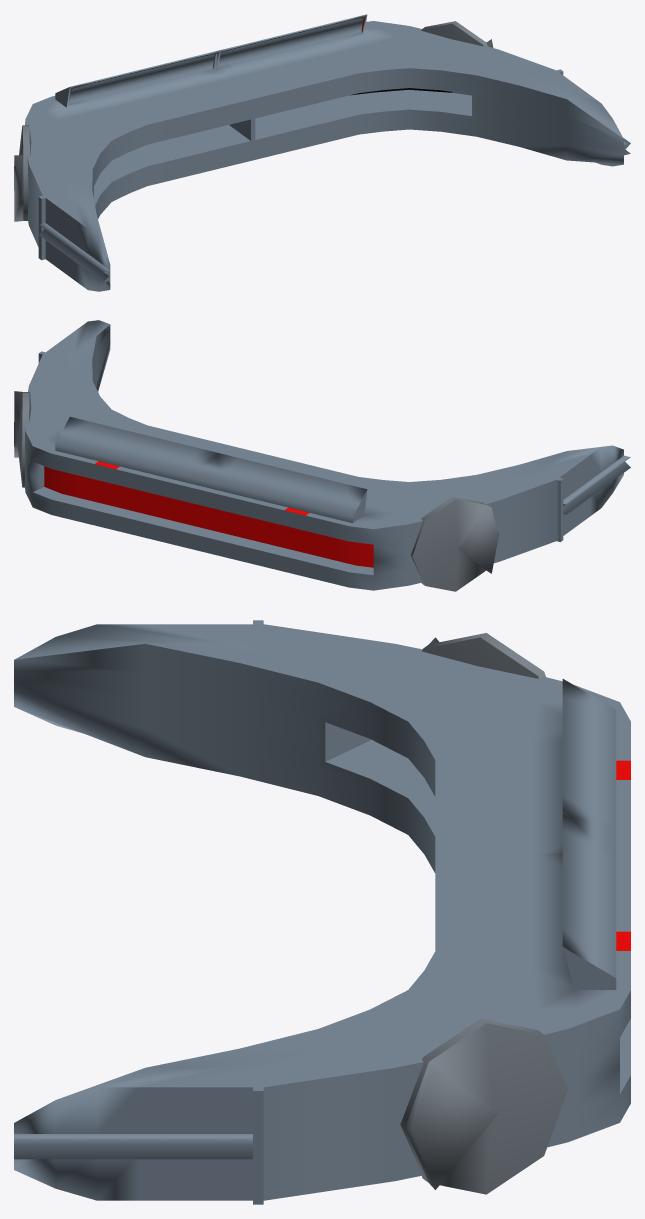
Rendered from visor.fbx.
3 views of the same model, one above another, from view 1: azimuth 30°, elevation 25°; view 2: azimuth 150°, elevation 25°; view 3: azimuth 270°, elevation 25° (orthographic). The views are drawn at different scales.
Visible parts, largest first — view 1: Cube, Oil Tank; view 2: Cube, Oil Tank; view 3: Cube, Oil Tank.
Part boxes in pixels (x1,y1,x2,y2): Cube: [25, 14, 630, 291]; Oil Tank: [14, 21, 493, 221]; Cube: [25, 320, 630, 590]; Oil Tank: [14, 391, 498, 591]; Cube: [14, 620, 630, 1204]; Oil Tank: [400, 633, 567, 1194].
Size of the model in its own units: 912 by 167 by 500.
